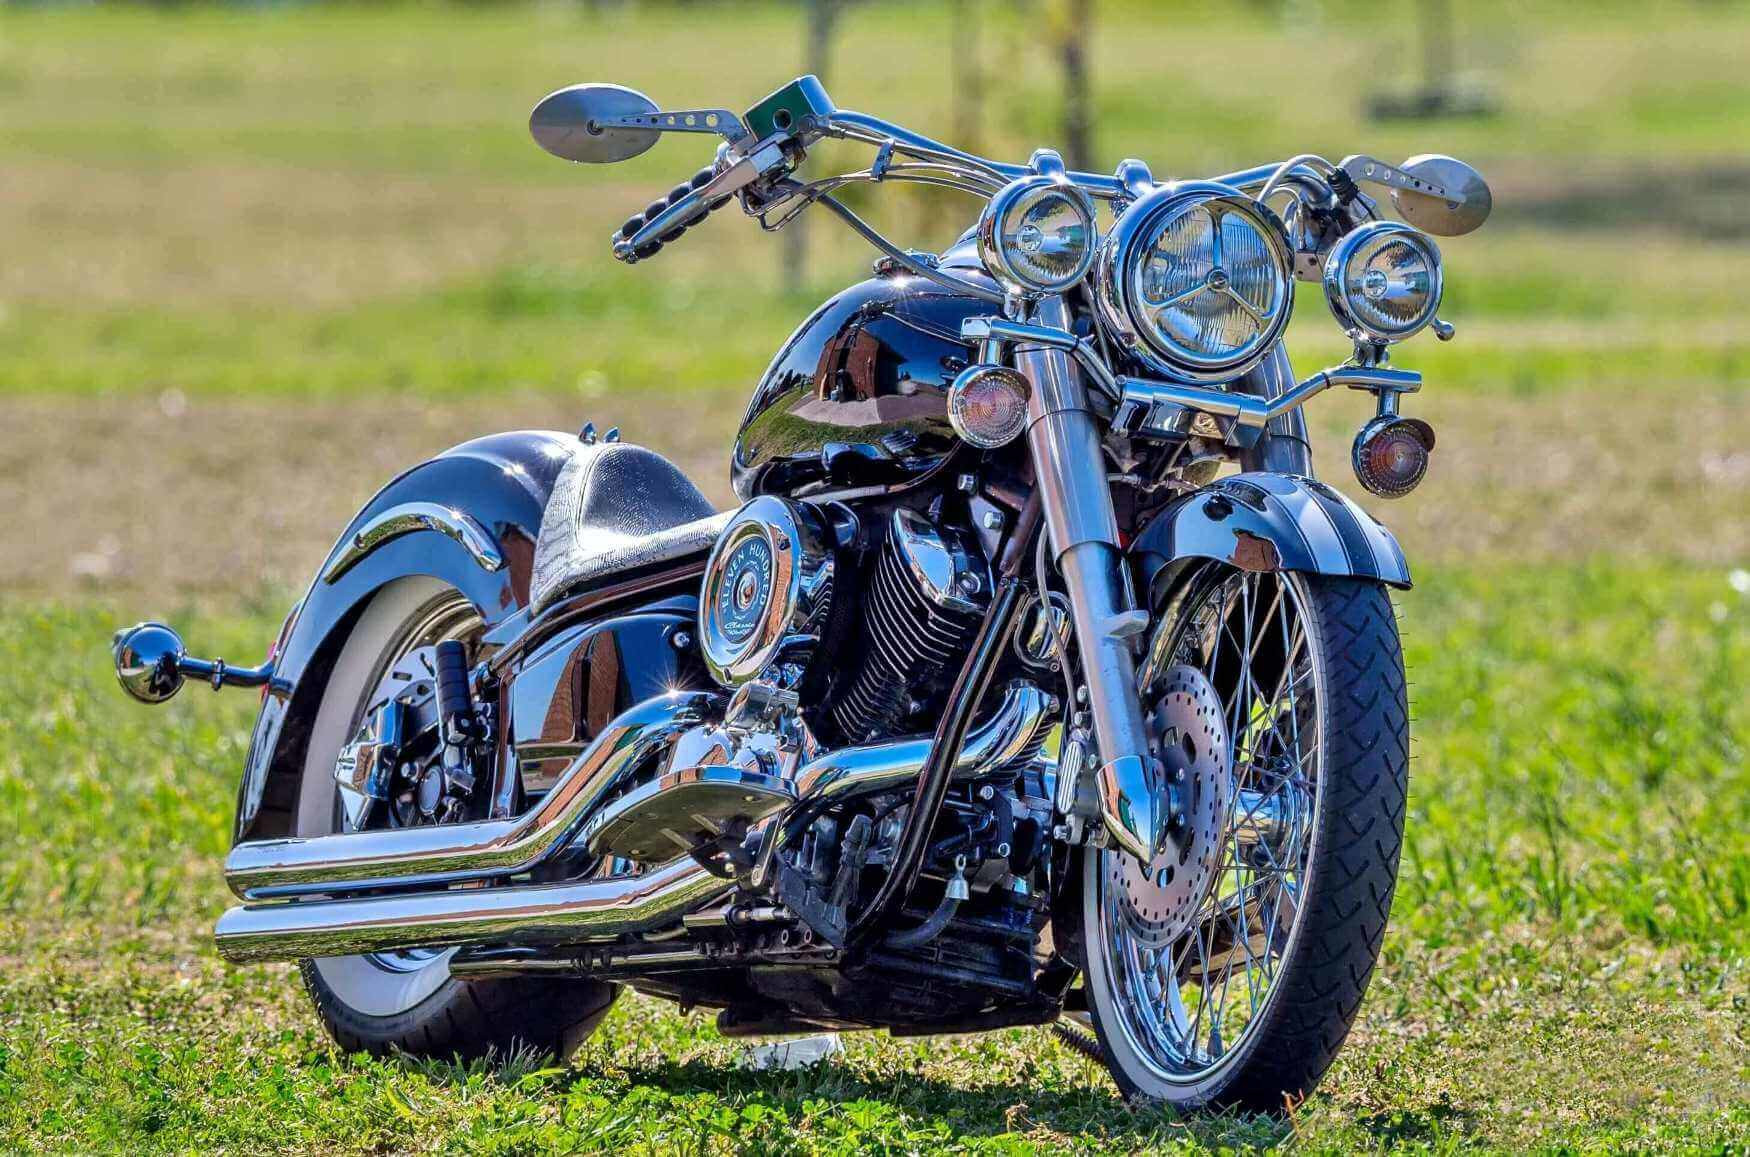bike: (106, 71, 1497, 1129)
